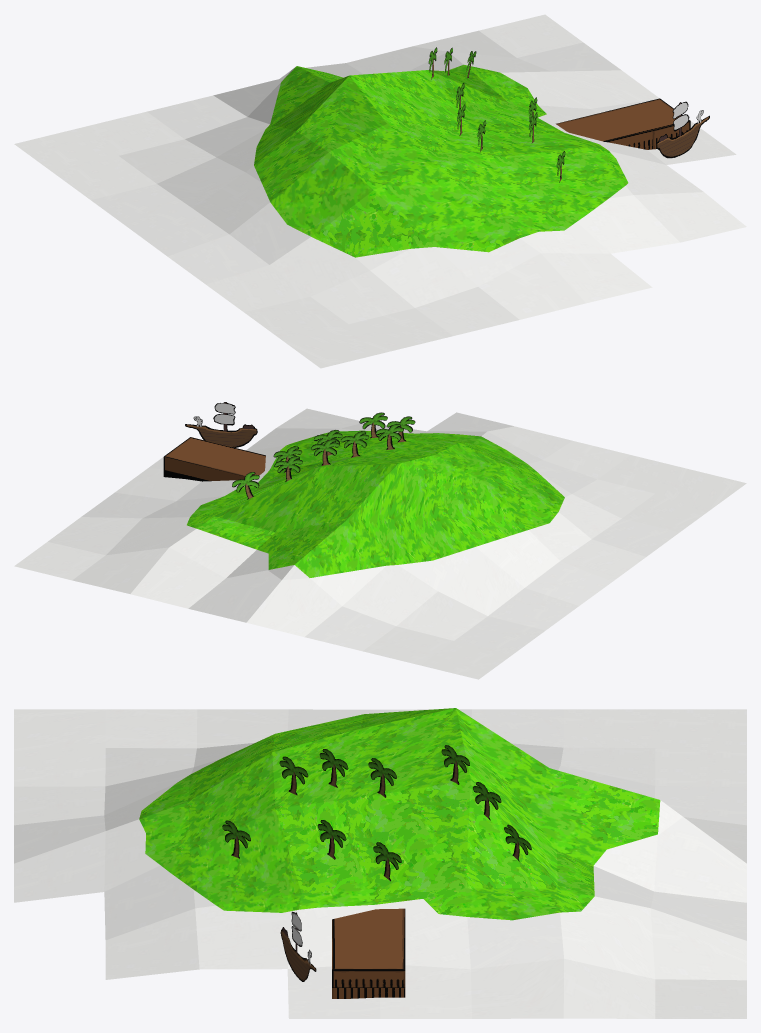
Rendered from island.obj.
3 renders of one model, top to bottom at view 1: azimuth 30°, elevation 25°; view 2: azimuth 150°, elevation 25°; view 3: azimuth 270°, elevation 25°, orthographic. The views are drawn at different scales.
Visible parts, largest first — view 1: Terrain, Pier, Ship; view 2: Terrain, Pier, Ship; view 3: Terrain, Pier, Ship.
Boxes of the visible parts, x1,y1,x2,y2 form: Terrain: (14,14,746,368); Pier: (556,98,690,149); Ship: (656,101,709,158); Terrain: (14,408,746,679); Pier: (163,437,265,481); Ship: (185,402,257,447); Terrain: (14,708,746,1018); Pier: (332,908,405,998); Ship: (280,911,316,981).
Bounding box in the file's own units: 5 × 1.05 × 5.
